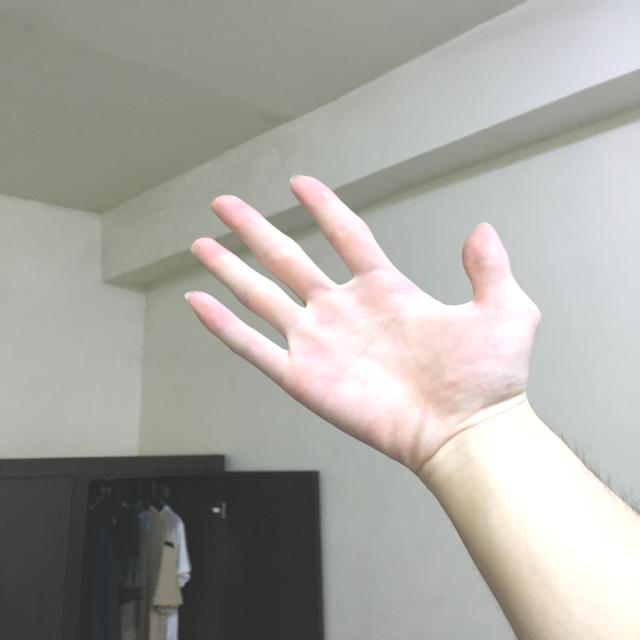no_glove: (172, 161, 561, 491)
